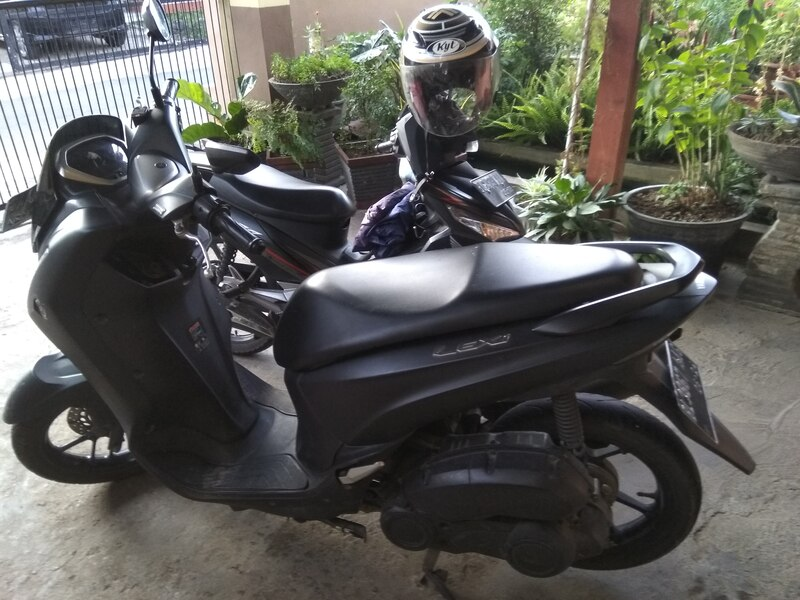motorcycle: (2, 1, 759, 585), (174, 62, 579, 394)
